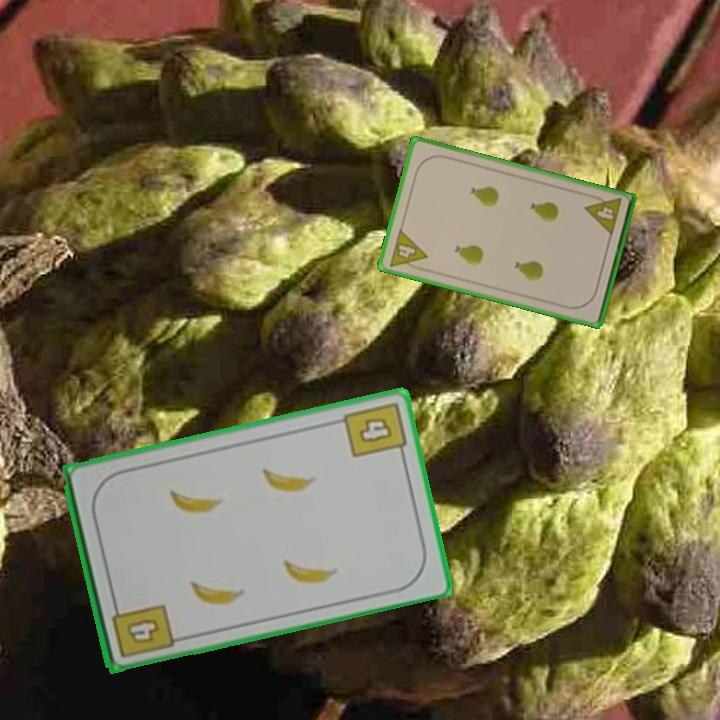4b: (107, 596, 176, 661), (340, 397, 409, 461)
4p: (385, 225, 430, 274), (582, 191, 624, 239)
